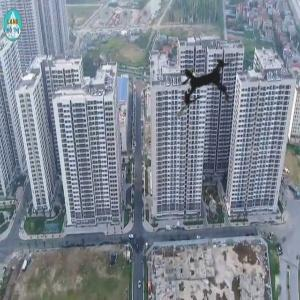drone: (145, 25, 267, 147)
